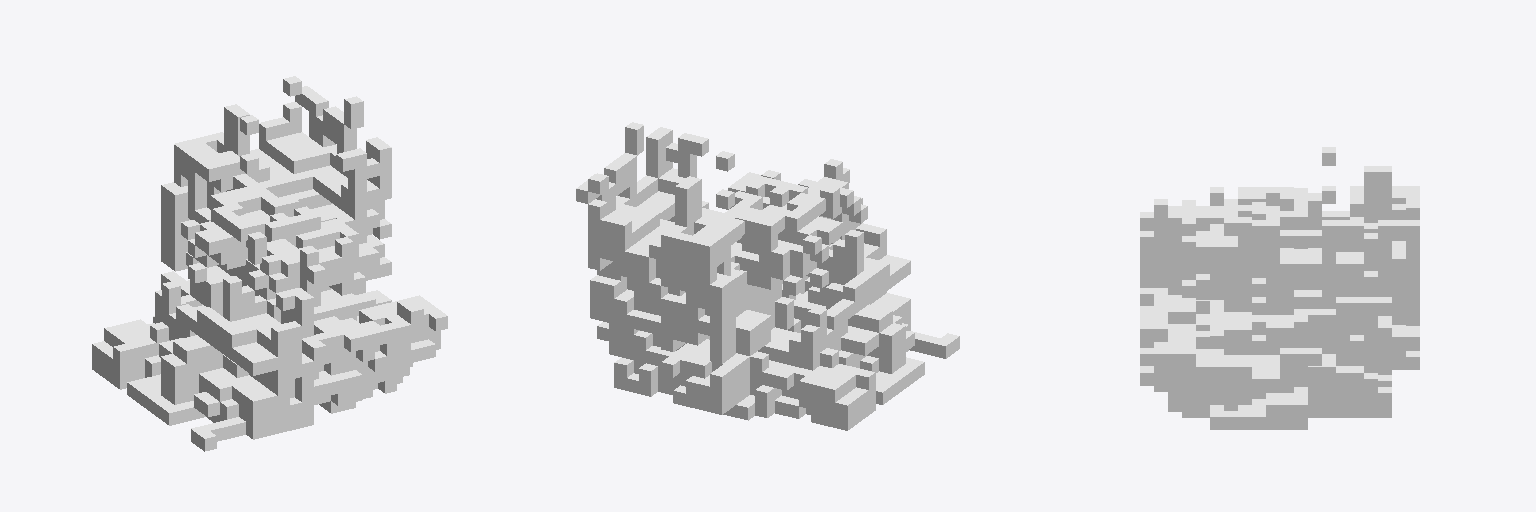
The model's file is tas de terre pour pelle.obj.
3 renders of one model, left to right at view 1: azimuth 30°, elevation 25°; view 2: azimuth 150°, elevation 25°; view 3: azimuth 270°, elevation 25°, orthographic.
Parts seen in each view (by area): view 1: object 1; view 2: object 1; view 3: object 1.
Part boxes in pixels (left/top/right/bottom): object 1: left=92, top=76, right=447, bottom=451; object 1: left=576, top=122, right=959, bottom=430; object 1: left=1140, top=147, right=1419, bottom=429.
Bounding box in the file's own units: 2 × 1.8 × 2.